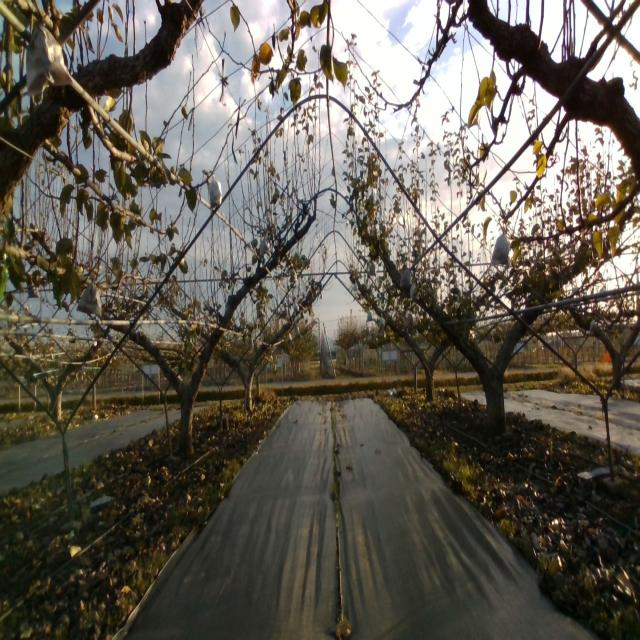pearbags: (26, 21, 73, 97), (490, 226, 512, 267), (208, 174, 223, 209), (399, 262, 412, 290), (257, 234, 271, 256)
